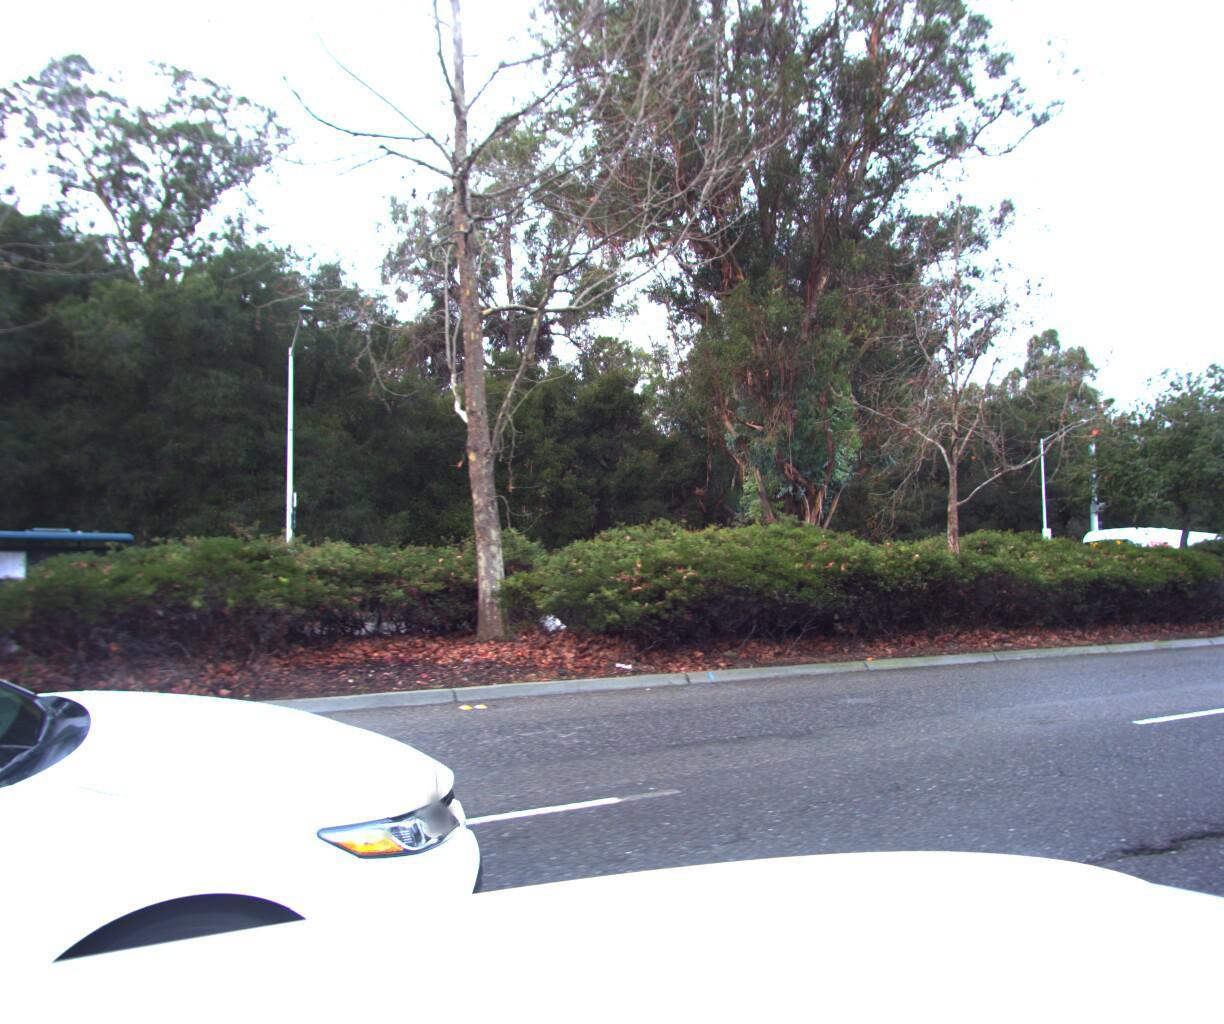bus: (1072, 524, 1224, 594)
